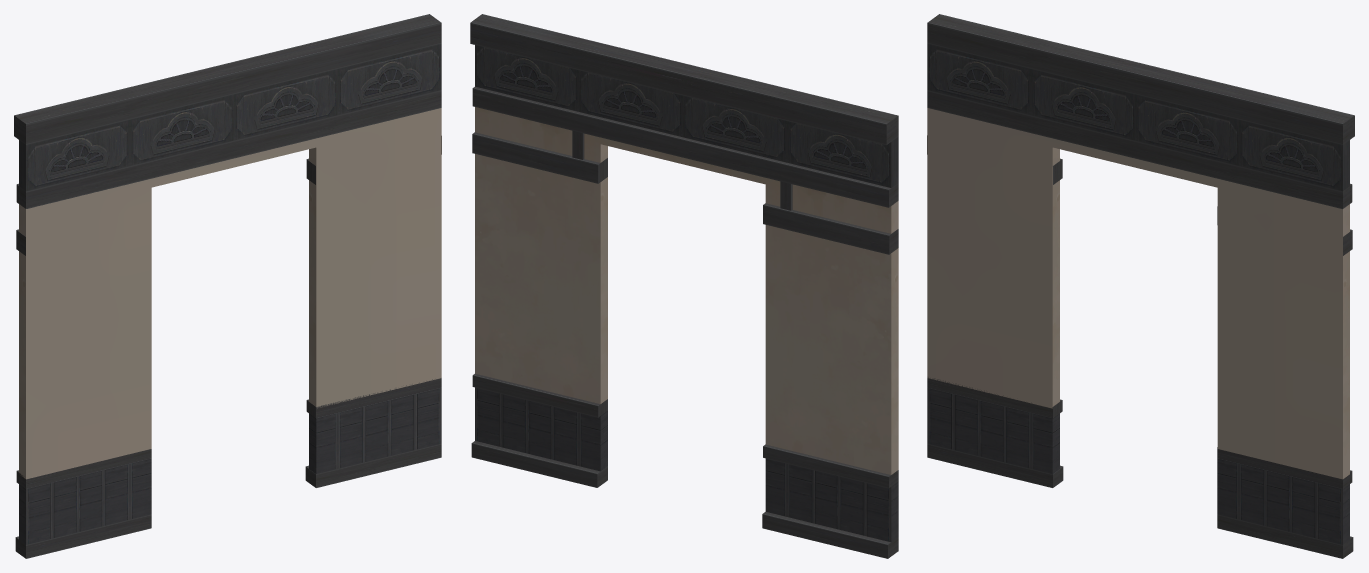
The model's file is Homeworld_Interior_Dq_Room_Wall_06_Vo.fbx.
3 renders of one model, left to right at view 1: azimuth 30°, elevation 25°; view 2: azimuth 150°, elevation 25°; view 3: azimuth 330°, elevation 25°, orthographic.
Parts seen in each view (by area): view 1: Homeworld_Interior_Dq_Room_Wall_06_Vo; view 2: Homeworld_Interior_Dq_Room_Wall_06_Vo; view 3: Homeworld_Interior_Dq_Room_Wall_06_Vo.
Boxes of the visible parts, left/top/right/bottom form: Homeworld_Interior_Dq_Room_Wall_06_Vo: left=14, top=14, right=441, bottom=558; Homeworld_Interior_Dq_Room_Wall_06_Vo: left=470, top=14, right=898, bottom=558; Homeworld_Interior_Dq_Room_Wall_06_Vo: left=927, top=14, right=1354, bottom=558.
Bounding box in the file's own units: 5.01 × 5 × 0.25.
